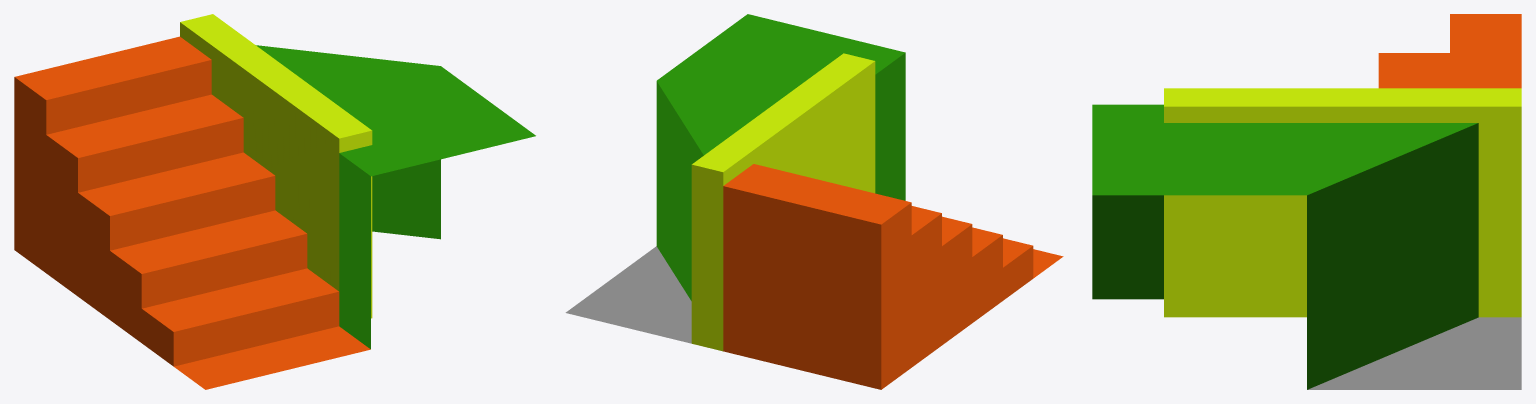
3 views of the same model, side by side, from view 1: azimuth 30°, elevation 25°; view 2: azimuth 150°, elevation 25°; view 3: azimuth 270°, elevation 25° (orthographic). The views are drawn at different scales.
Parts seen in each view (by area): view 1: T_a_1_0; view 2: T_a_1_0; view 3: T_a_1_0.
Part boxes in pixels (x1=…): T_a_1_0: x1=14, y1=14, x2=535, y2=389; T_a_1_0: x1=565, y1=14, x2=1063, y2=389; T_a_1_0: x1=1092, y1=14, x2=1521, y2=389.
Size of the model in its own units: 99.8 by 54.07 by 99.81.
